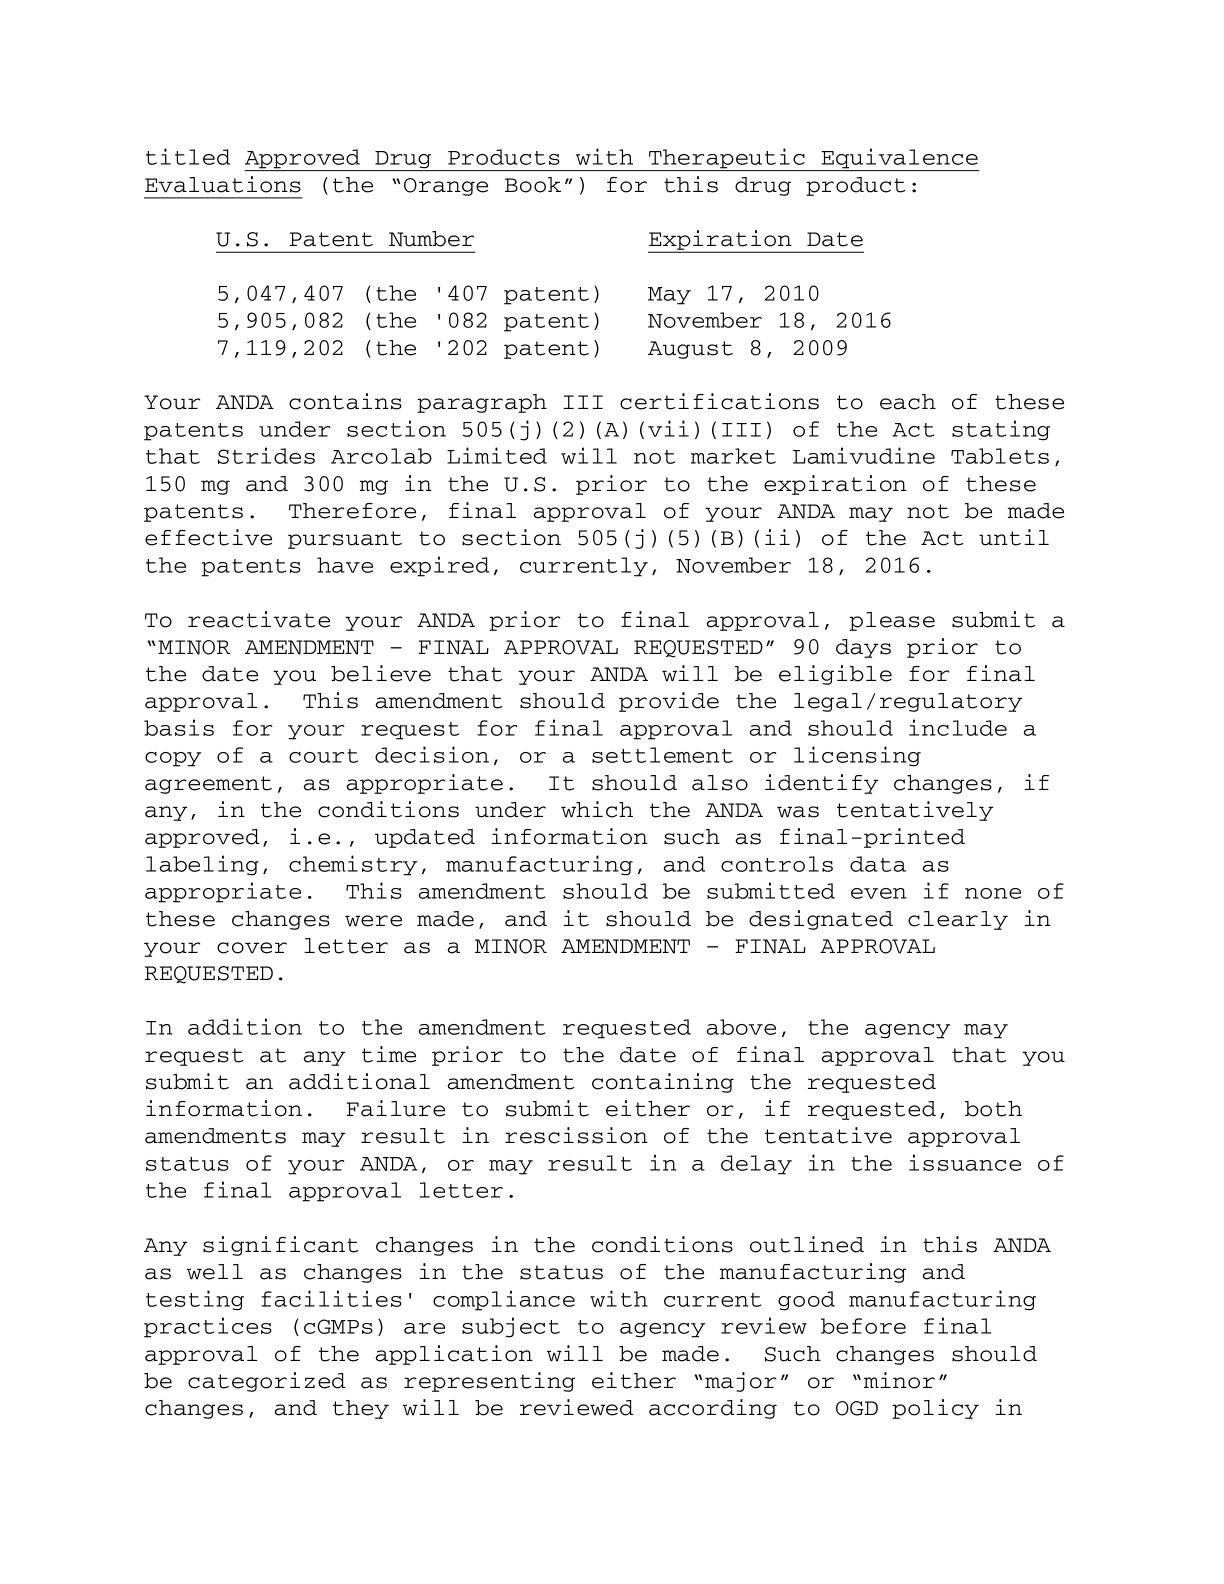nolines: (208, 221, 895, 366)
